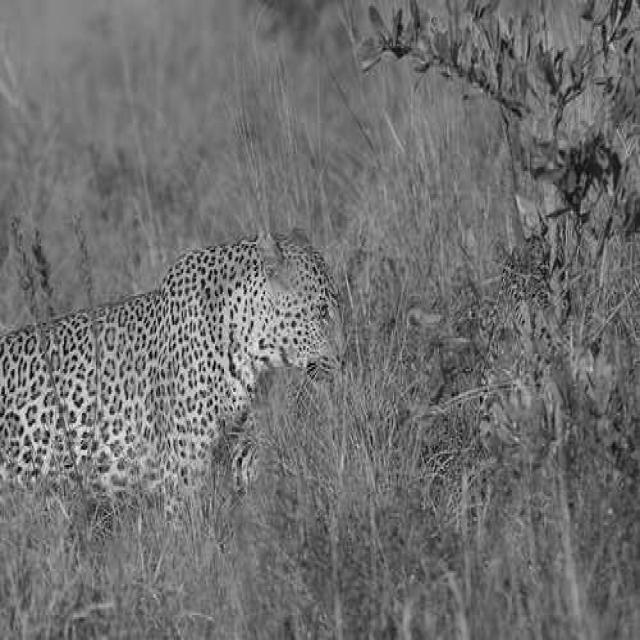Leopard: (0, 225, 348, 534)
